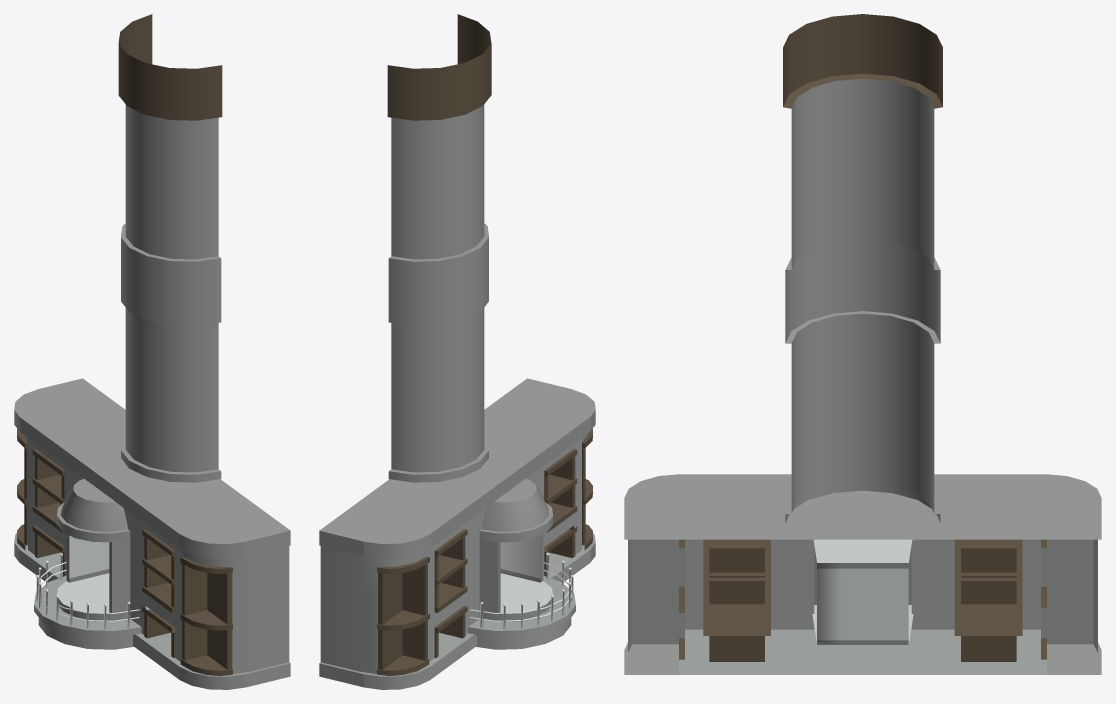
The picture shows the model from 3 angles, left to right: view 1: azimuth 30°, elevation 25°; view 2: azimuth 150°, elevation 25°; view 3: azimuth 270°, elevation 25°; orthographic projection. The views are drawn at different scales.
Parts seen in each view (by area): view 1: G:\FFXIV-MapTools\exports\s1f3\bg\ffxiv\sea_s1\fld\s1f3\bgpa (×7); view 2: G:\FFXIV-MapTools\exports\s1f3\bg\ffxiv\sea_s1\fld\s1f3\bgpa (×7); view 3: G:\FFXIV-MapTools\exports\s1f3\bg\ffxiv\sea_s1\fld\s1f3\bgpa (×6).
Part boxes in pixels (<box>): G:\FFXIV-MapTools\exports\s1f3\bg\ffxiv\sea_s1\fld\s1f3\bgpa (×7): <box>14,14,290,689</box>; G:\FFXIV-MapTools\exports\s1f3\bg\ffxiv\sea_s1\fld\s1f3\bgpa (×7): <box>319,14,595,689</box>; G:\FFXIV-MapTools\exports\s1f3\bg\ffxiv\sea_s1\fld\s1f3\bgpa (×6): <box>624,14,1101,674</box>.
Size of the model in its own units: 1.73 by 6.42 by 4.31.
